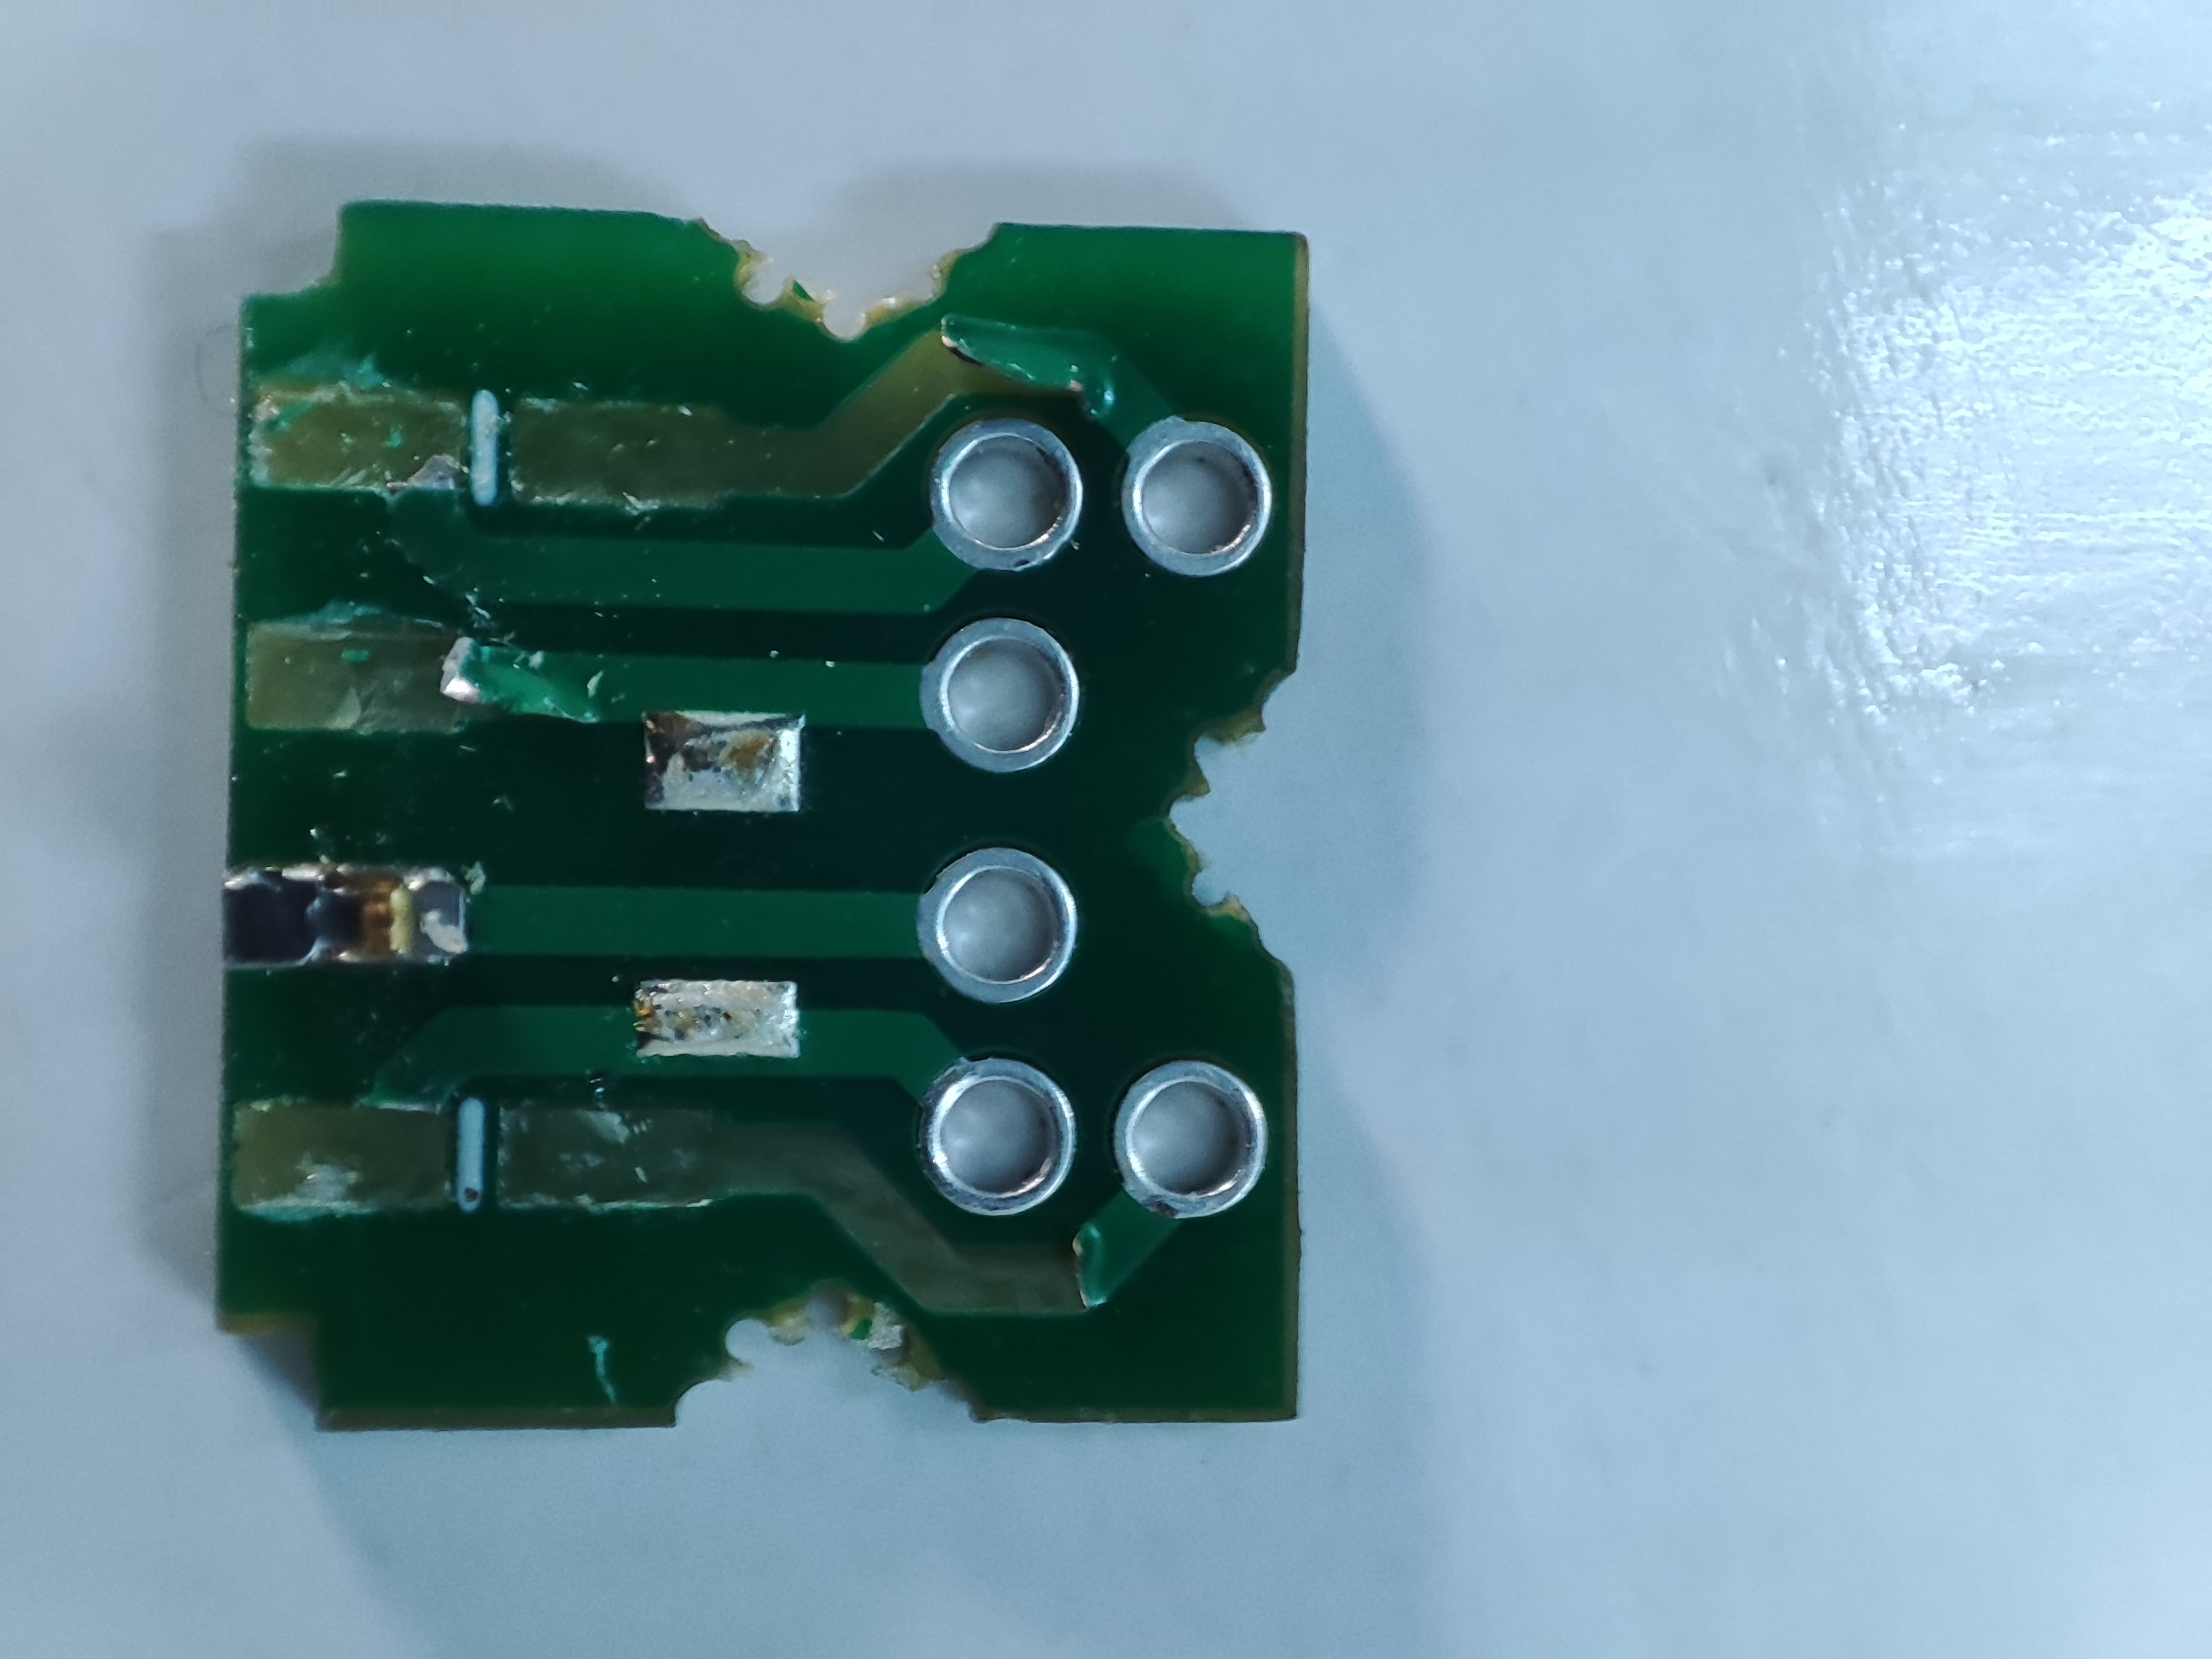PCB-MODEL-0: (146, 159, 1411, 1520)
defected-spring_finger: (193, 1073, 529, 1234), (223, 582, 502, 751), (233, 368, 524, 518)
normal-spring_finger: (197, 838, 510, 988)
normal-through: (900, 819, 1097, 1023), (895, 1049, 1096, 1234), (921, 403, 1099, 579), (1120, 397, 1285, 582), (1106, 1049, 1268, 1229), (921, 613, 1087, 784)
